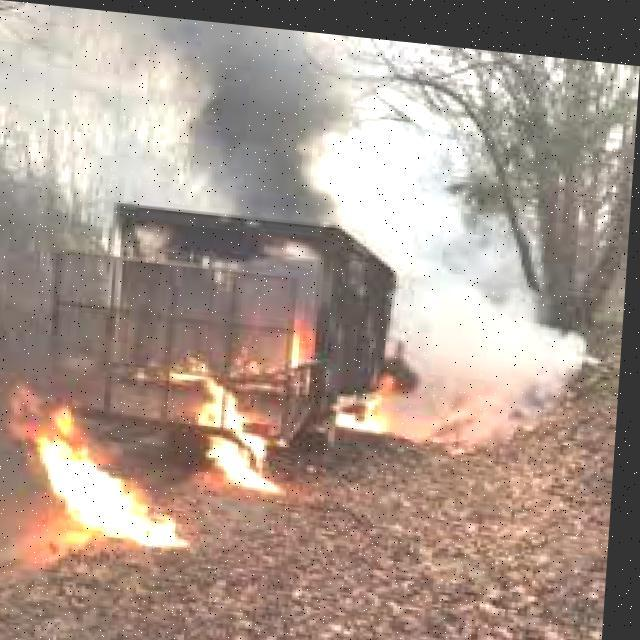Fire: (0, 380, 205, 566), (162, 350, 300, 494), (324, 346, 433, 444), (268, 302, 346, 362)
